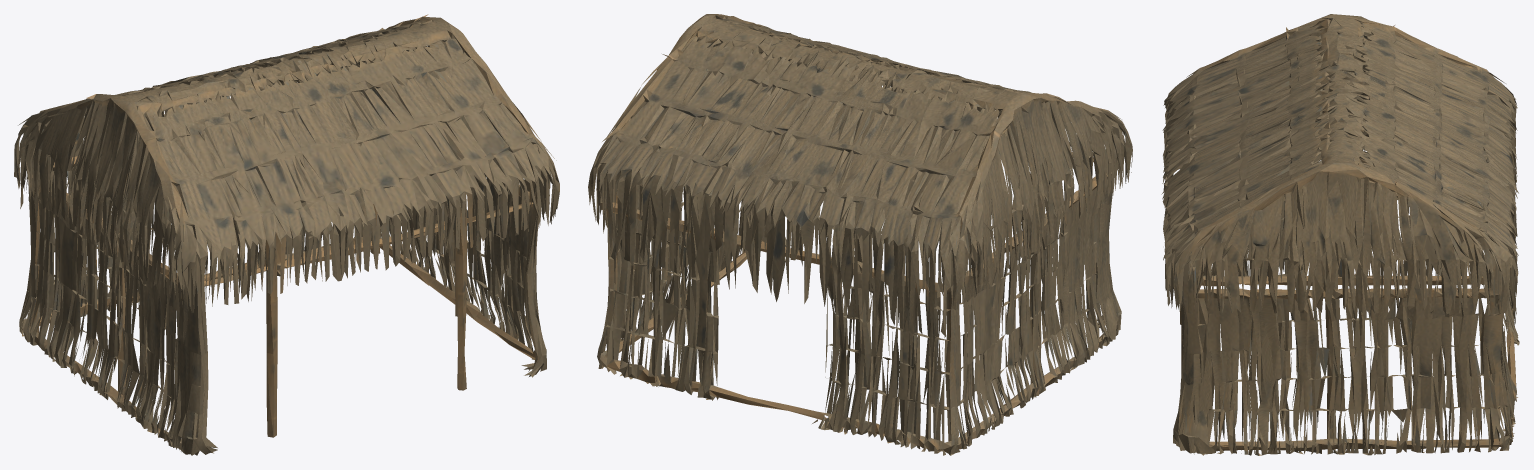
File: tettoia_paglia.glb
3 renders of one model, left to right at view 1: azimuth 30°, elevation 25°; view 2: azimuth 150°, elevation 25°; view 3: azimuth 270°, elevation 25°, orthographic. The views are drawn at different scales.
Size of the model in its own units: 1.9 by 1.42 by 1.63.
1 material, 1 textured.
